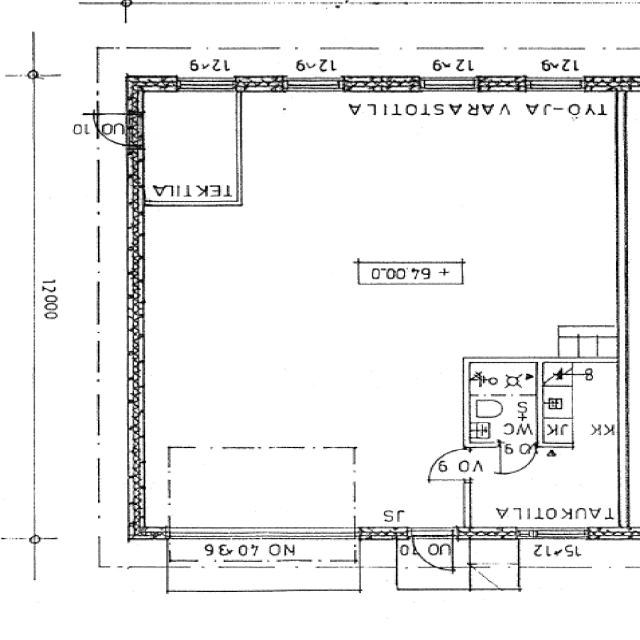door: (411, 526, 453, 572), (87, 114, 143, 146), (426, 449, 470, 480), (500, 443, 534, 474)
